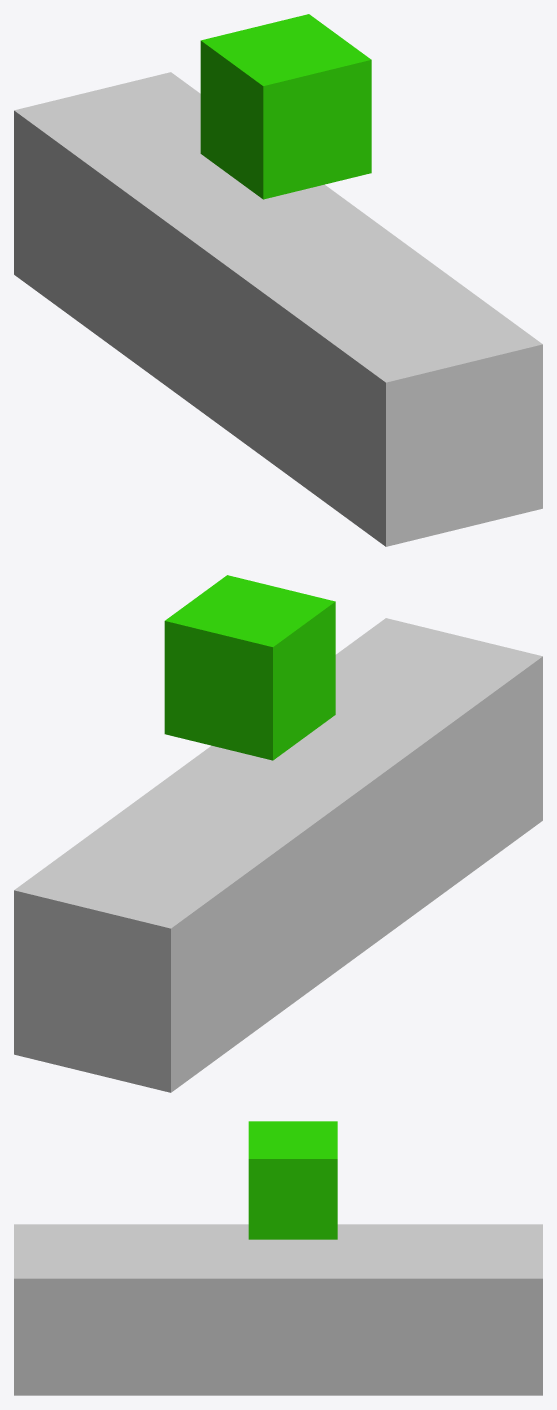
3 views of the same model, one above another, from view 1: azimuth 30°, elevation 25°; view 2: azimuth 150°, elevation 25°; view 3: azimuth 270°, elevation 25° (orthographic). The views are drawn at different scales.
Visible parts, largest first — view 1: Cube, Cube.001; view 2: Cube, Cube.001; view 3: Cube, Cube.001.
Boxes of the visible parts, left/top/right/bottom form: Cube: left=14, top=72, right=542, bottom=546; Cube.001: left=200, top=14, right=371, bottom=199; Cube: left=14, top=618, right=542, bottom=1092; Cube.001: left=164, top=575, right=335, bottom=760; Cube: left=14, top=1224, right=542, bottom=1395; Cube.001: left=248, top=1121, right=337, bottom=1239.
Size of the model in its own units: 2.9 by 5.81 by 11.9.
